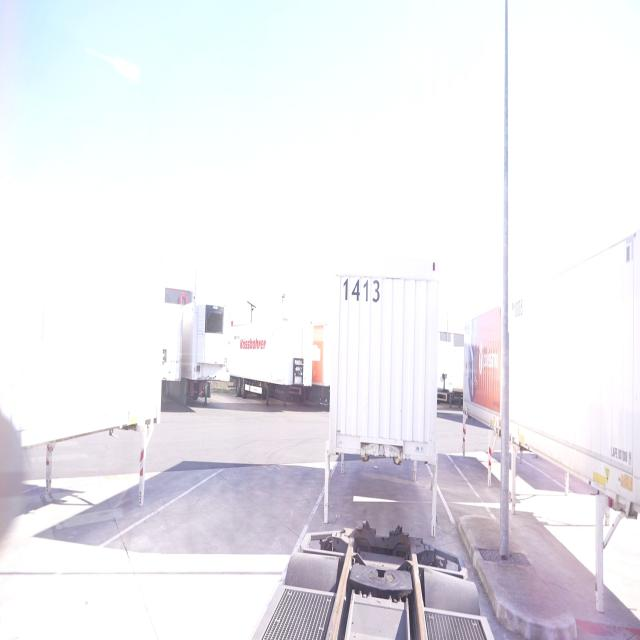Code: (341, 265, 384, 306)
